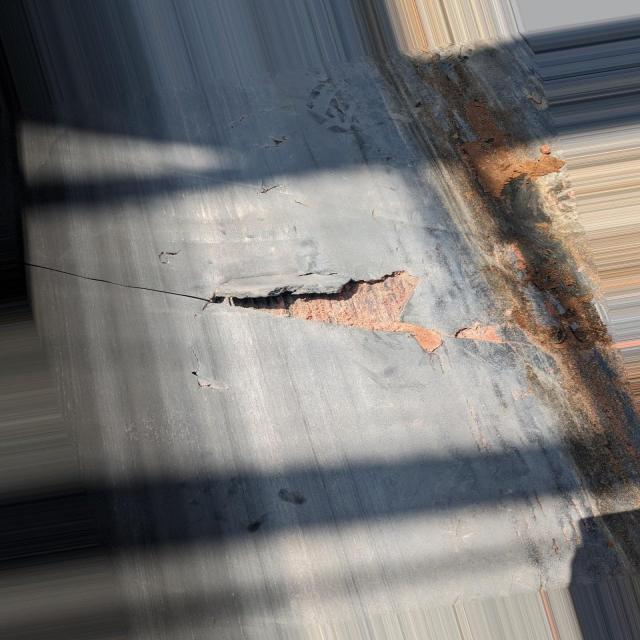Tear: (25, 260, 521, 366), (176, 343, 236, 397), (226, 98, 297, 132), (150, 246, 187, 271), (257, 172, 288, 196), (256, 132, 288, 151)
